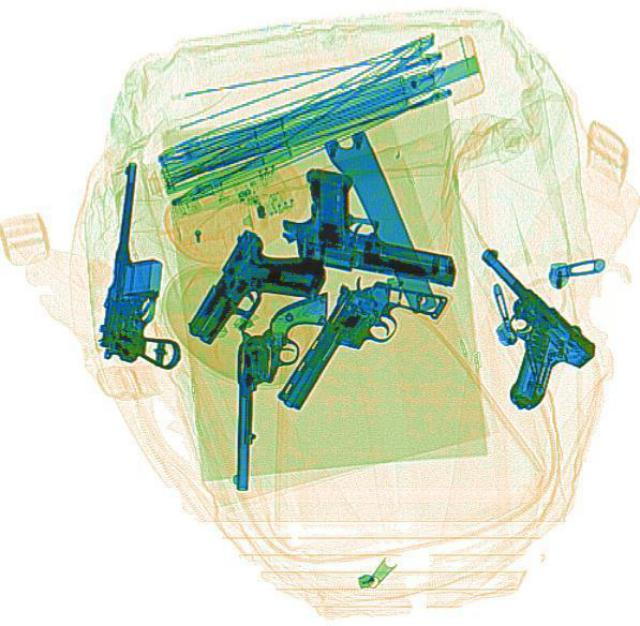Gun: (263, 251, 449, 441), (412, 239, 602, 413), (272, 161, 472, 285), (92, 157, 206, 369), (178, 225, 330, 371), (232, 291, 326, 488)
